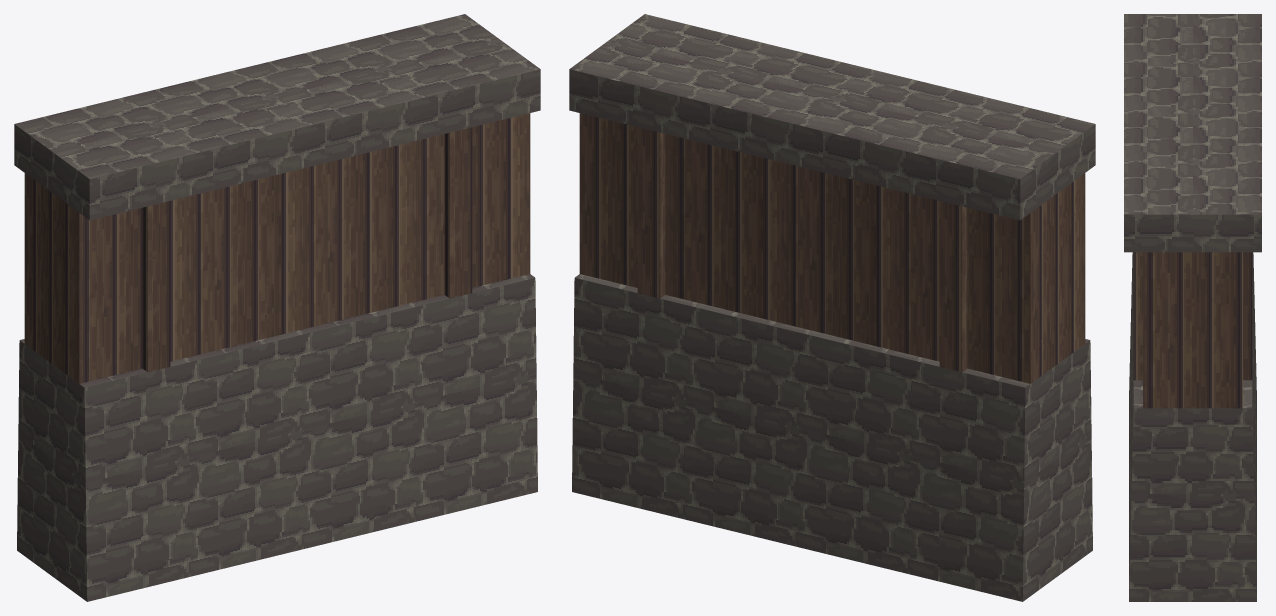
File: wall_straight_plank.glb
3 views of the same model, side by side, from view 1: azimuth 30°, elevation 25°; view 2: azimuth 150°, elevation 25°; view 3: azimuth 270°, elevation 25° (orthographic). The views are drawn at different scales.
Visible parts, largest first — view 1: wall_straight_plank; view 2: wall_straight_plank; view 3: wall_straight_plank.
Part boxes in pixels (<box>): wall_straight_plank: <box>14,14,540,601</box>; wall_straight_plank: <box>569,14,1095,601</box>; wall_straight_plank: <box>1124,14,1261,601</box>.
Bounding box in the file's own units: 4 × 3.6 × 1.16.
Materials: 2 (2 with a texture image).
